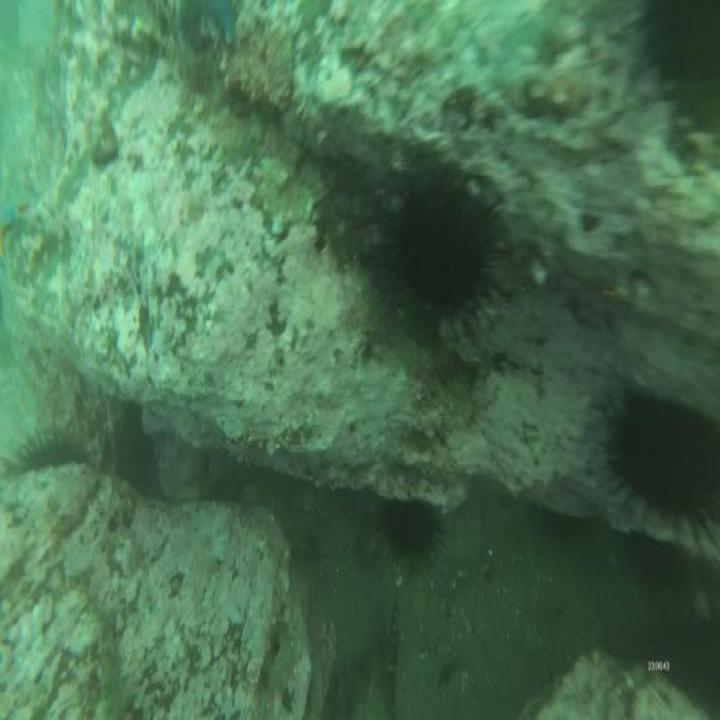echinus: (384, 178, 498, 330), (611, 384, 720, 535), (380, 487, 443, 569)
